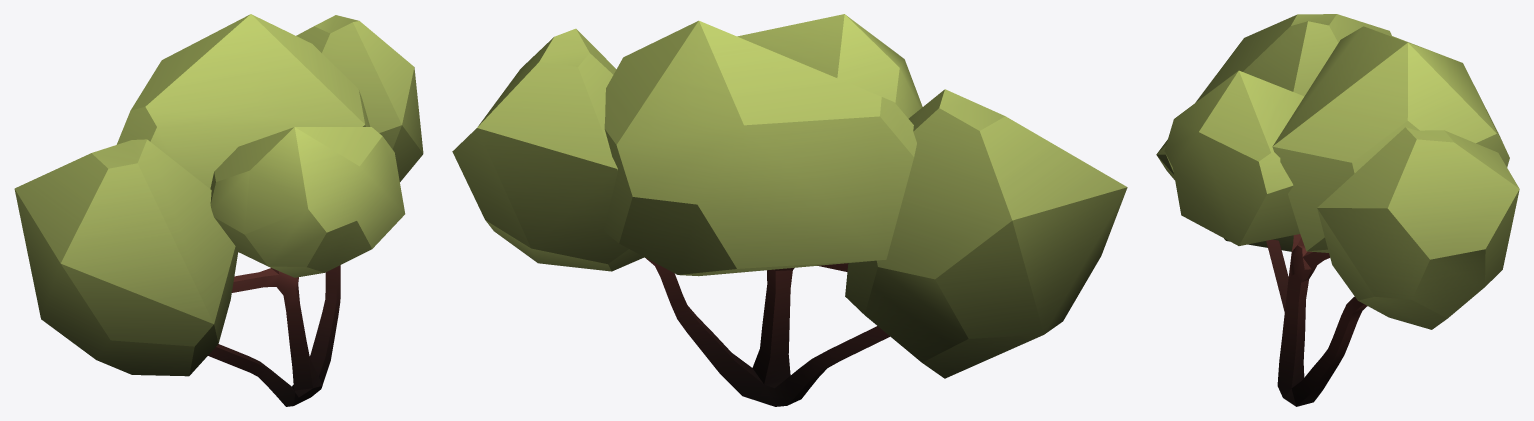
The model's file is bush5.fbx.
The picture shows the model from 3 angles, left to right: view 1: azimuth 30°, elevation 25°; view 2: azimuth 150°, elevation 25°; view 3: azimuth 270°, elevation 25°; orthographic projection. The views are drawn at different scales.
Parts seen in each view (by area): view 1: bush1; view 2: bush1; view 3: bush1.
Part boxes in pixels (x1,y1,x2,y2): bush1: (14, 14, 423, 406); bush1: (452, 14, 1127, 406); bush1: (1156, 14, 1519, 406).
Size of the model in its own units: 347 by 263 by 239.
